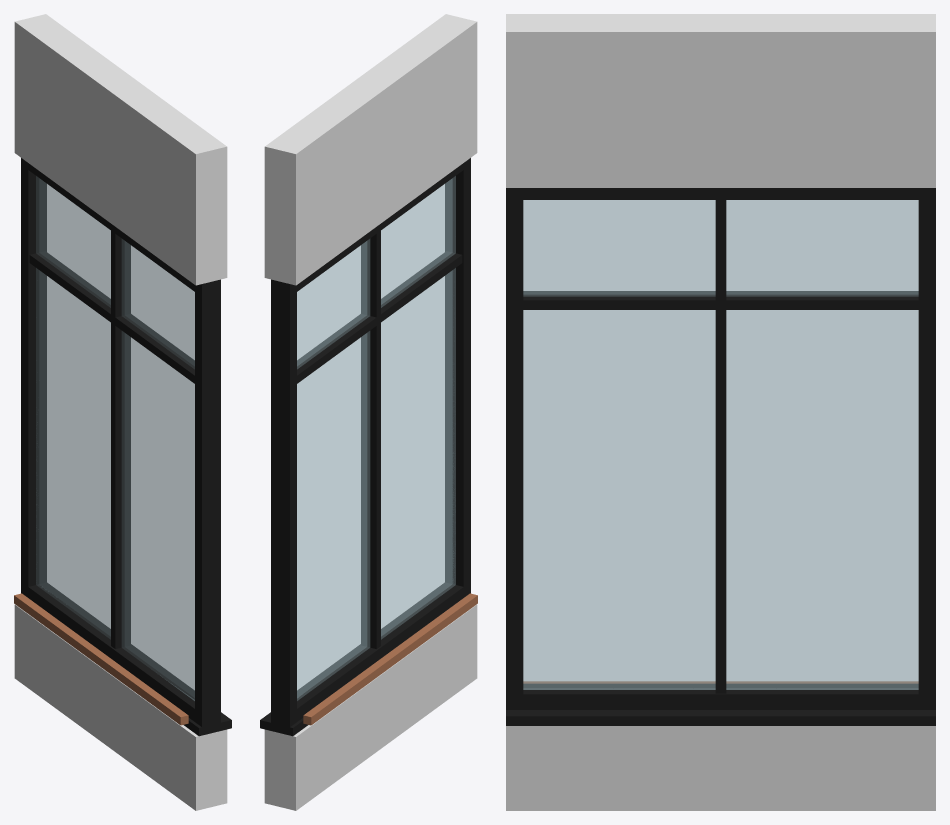
The model's file is SM_Build_Schaufenster_Gross.fbx.
3 renders of one model, left to right at view 1: azimuth 30°, elevation 25°; view 2: azimuth 150°, elevation 25°; view 3: azimuth 270°, elevation 25°, orthographic. The views are drawn at different scales.
Visible parts, largest first — view 1: Schaufenster Groß; view 2: Schaufenster Groß; view 3: Schaufenster Groß.
Part boxes in pixels (x1,y1,x2,y2): Schaufenster Groß: [14, 14, 231, 810]; Schaufenster Groß: [260, 14, 477, 810]; Schaufenster Groß: [506, 14, 935, 810].
Bounding box in the file's own units: 0.28 × 4 × 2.
